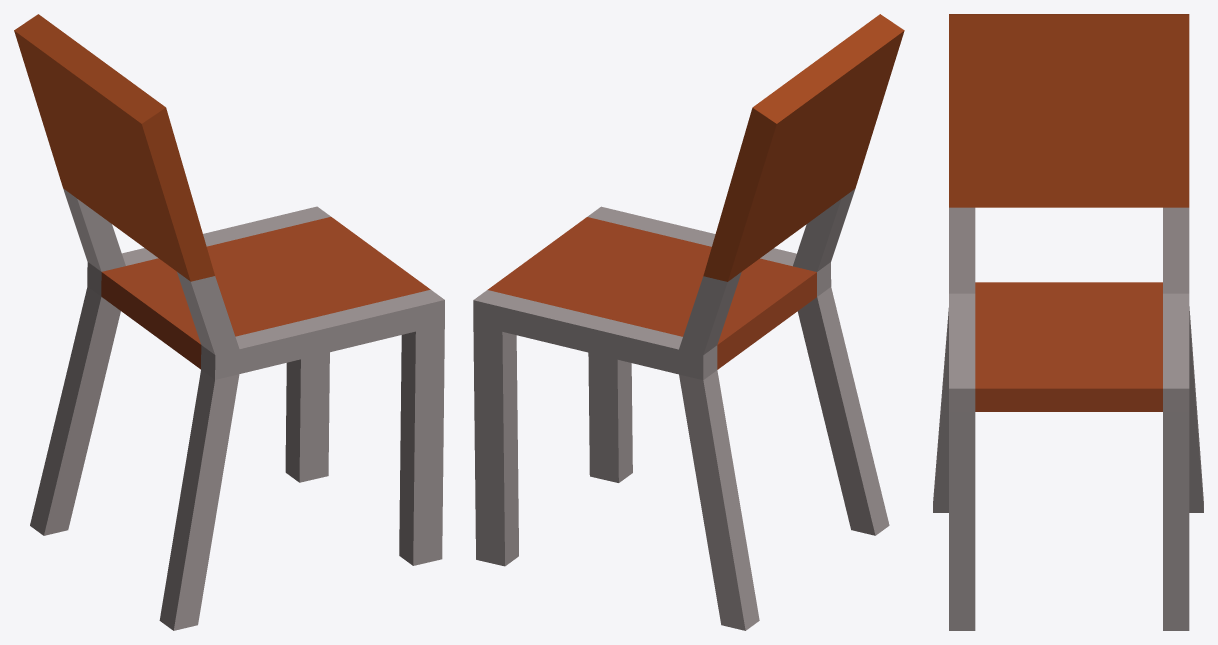
File: sillaChica.FBX
The picture shows the model from 3 angles, left to right: view 1: azimuth 30°, elevation 25°; view 2: azimuth 150°, elevation 25°; view 3: azimuth 270°, elevation 25°; orthographic projection. The views are drawn at different scales.
Parts seen in each view (by area): view 1: Cubo; view 2: Cubo; view 3: Cubo.
Boxes of the visible parts, x1,y1,x2,y2 form: Cubo: [14, 14, 444, 630]; Cubo: [473, 14, 904, 630]; Cubo: [933, 14, 1203, 630].
Bounding box in the file's own units: 18.13 × 29.67 × 14.9.
